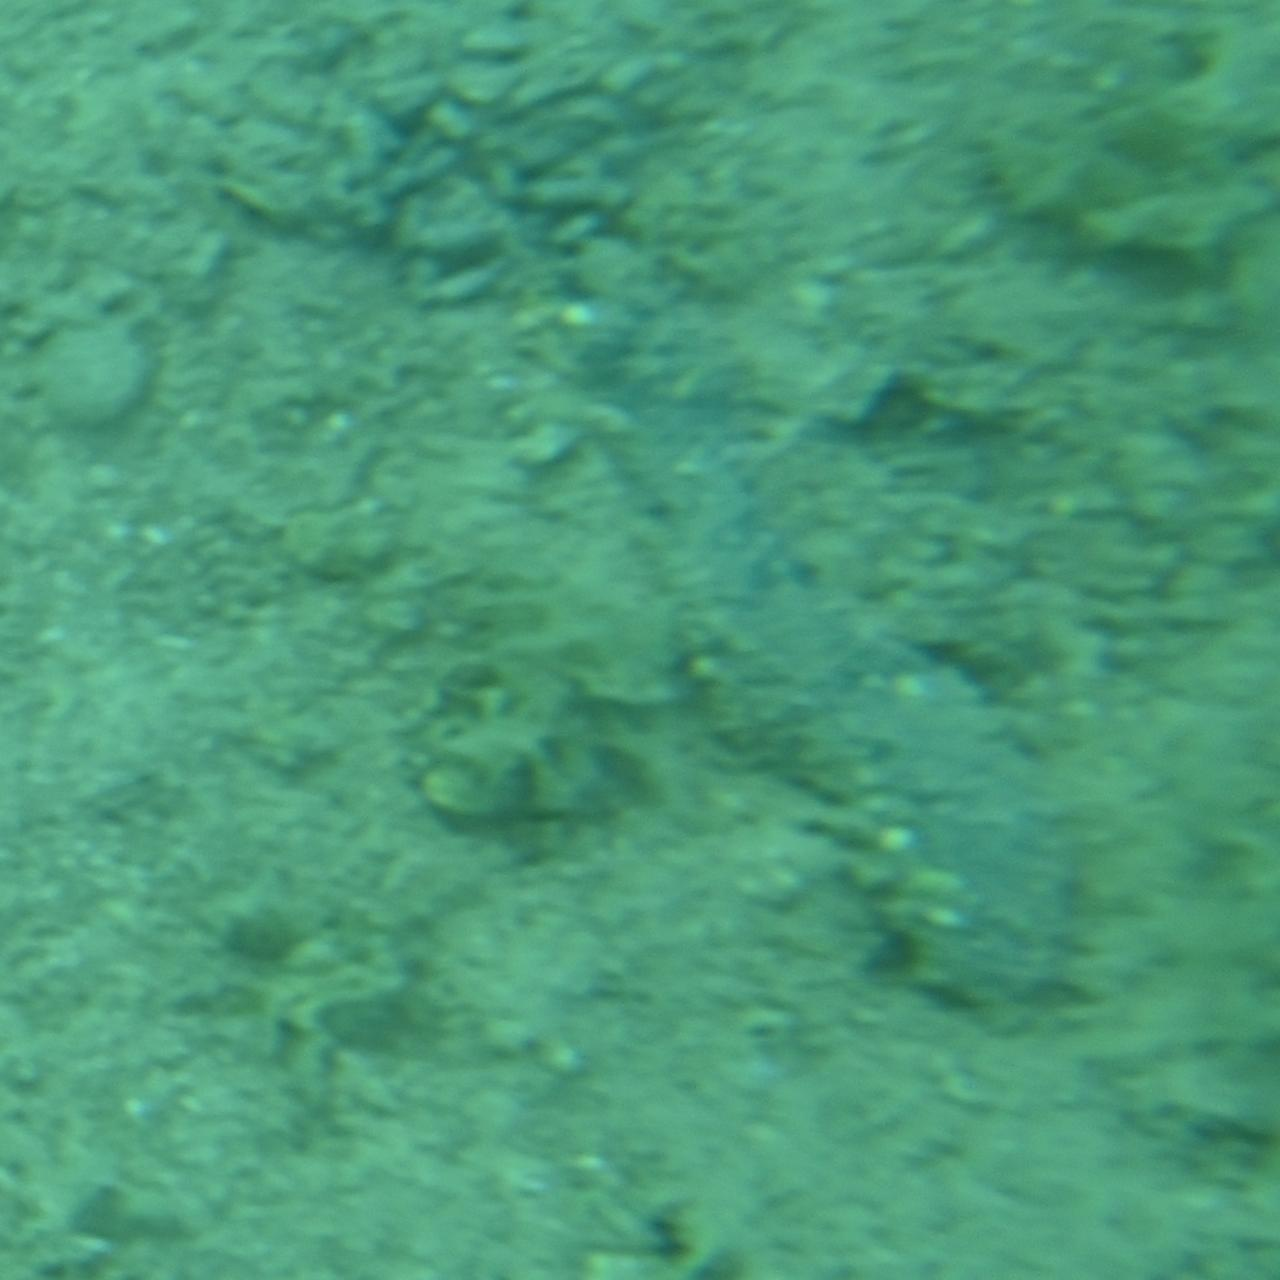Holothuria tubulosa: (545, 242, 1097, 1038)
